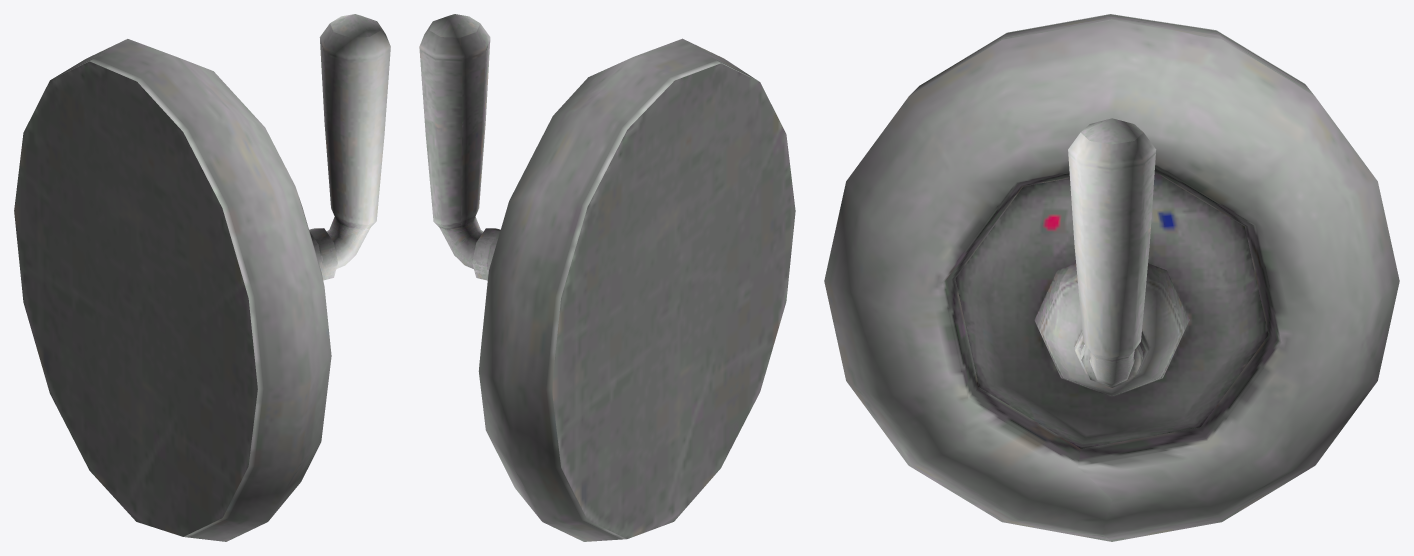
File: shower_tap.dae
The picture shows the model from 3 angles, left to right: view 1: azimuth 30°, elevation 25°; view 2: azimuth 150°, elevation 25°; view 3: azimuth 270°, elevation 25°; orthographic projection. The views are drawn at different scales.
Visible parts, largest first — view 1: shower_tap__2_; view 2: shower_tap__2_; view 3: shower_tap__2_.
Boxes of the visible parts, left/top/right/bottom form: shower_tap__2_: left=14, top=14, right=390, bottom=541; shower_tap__2_: left=419, top=14, right=795, bottom=541; shower_tap__2_: left=824, top=14, right=1399, bottom=541.
Size of the model in its own units: 7.62 by 13.61 by 13.61.
